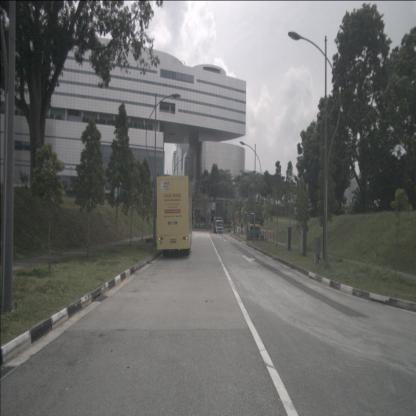vehicle-truck: (156, 175, 192, 257), (214, 216, 223, 234)
